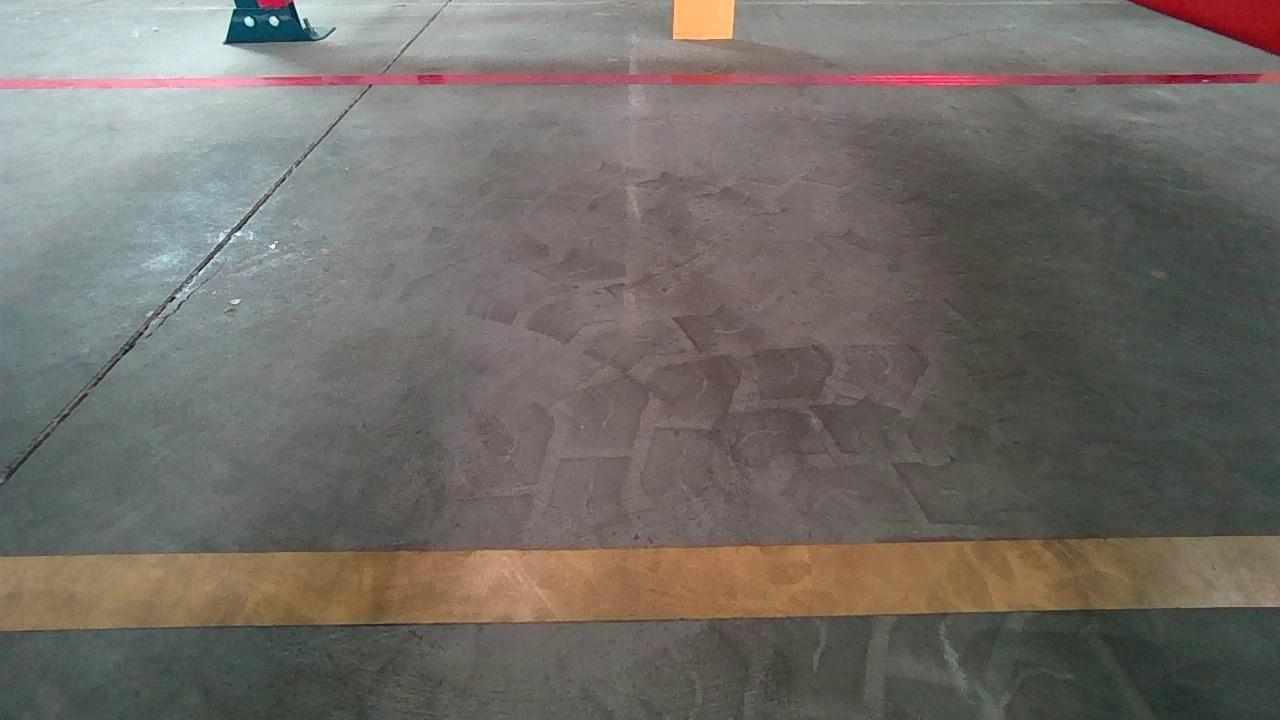orange_strip: (672, 0, 736, 41)
yellow_line: (8, 533, 1280, 632)
